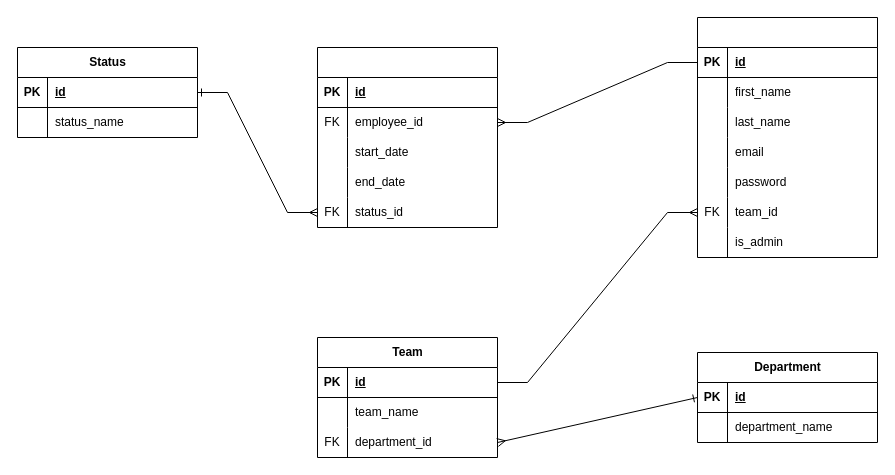
The diagram is 895 pixels wide and 475 high, and some of its shapes have lost their labels. The box of each missing label's shape, as (x1, y1, x2, y2) in pixels:
Employee: (696, 16, 878, 258)
LeaveRequest: (316, 46, 498, 228)
